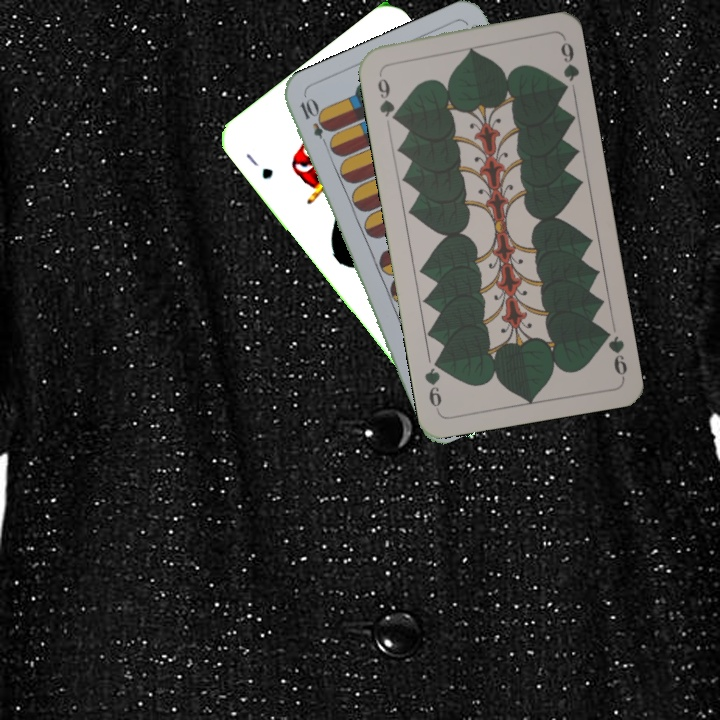E10: (296, 94, 333, 151)
G9: (598, 324, 630, 381), (373, 67, 401, 125)
GU: (241, 149, 276, 182)
